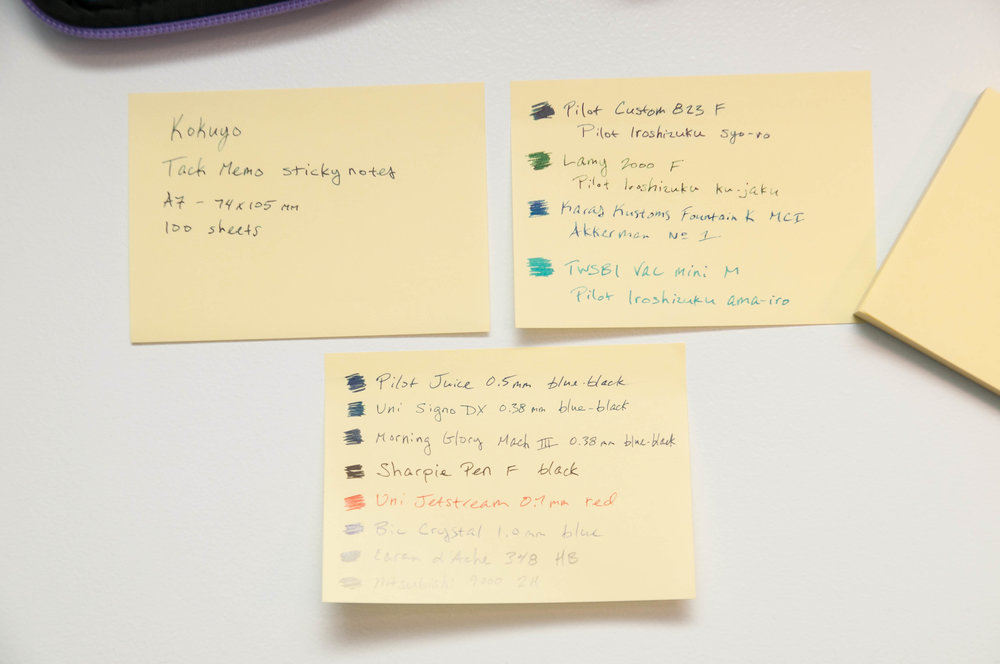Note: (326, 351, 702, 602), (510, 78, 885, 328), (131, 84, 491, 337)
